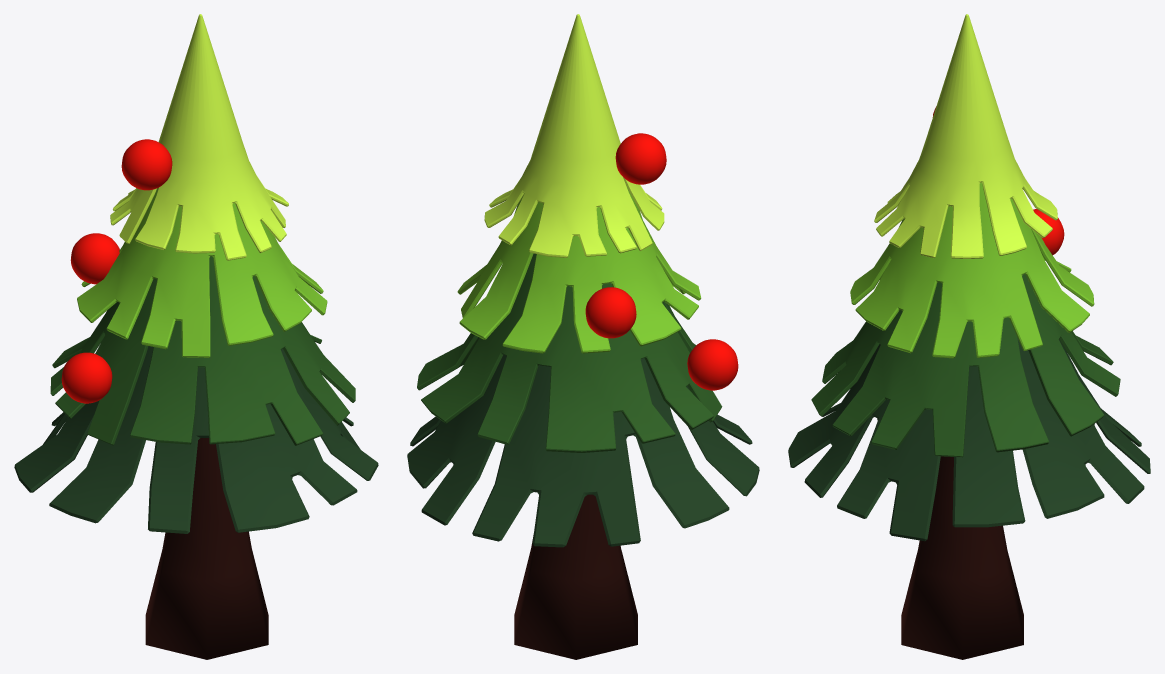
File: summer tree.fbx
3 renders of one model, left to right at view 1: azimuth 30°, elevation 25°; view 2: azimuth 150°, elevation 25°; view 3: azimuth 270°, elevation 25°, orthographic.
Visible parts, largest first — view 1: Cylinder.005, Cylinder.006, Cylinder.008, Cylinder.007, Trunk.002, Sphere.002, Sphere.008, Sphere.001; view 2: Cylinder.005, Cylinder.006, Cylinder.008, Cylinder.007, Trunk.002, Sphere.001, Sphere.008, Sphere.002; view 3: Cylinder.005, Cylinder.006, Cylinder.007, Cylinder.008, Trunk.002, Sphere.001.
Boxes of the visible parts, x1=… form: Cylinder.005: x1=14, y1=346, x2=378, y2=533; Cylinder.006: x1=50, y1=256, x2=355, y2=445; Cylinder.008: x1=110, y1=14, x2=288, y2=260; Cylinder.007: x1=77, y1=187, x2=327, y2=357; Trunk.002: x1=145, y1=438, x2=268, y2=659; Sphere.002: x1=121, y1=139, x2=172, y2=190; Sphere.008: x1=61, y1=352, x2=112, y2=403; Sphere.001: x1=70, y1=233, x2=119, y2=284; Cylinder.005: x1=407, y1=354, x2=759, y2=547; Cylinder.006: x1=417, y1=253, x2=722, y2=452; Cylinder.008: x1=484, y1=14, x2=664, y2=257; Cylinder.007: x1=457, y1=186, x2=701, y2=353; Trunk.002: x1=514, y1=494, x2=637, y2=659; Sphere.001: x1=585, y1=287, x2=636, y2=338; Sphere.008: x1=687, y1=339, x2=738, y2=390; Sphere.002: x1=615, y1=133, x2=666, y2=184; Cylinder.005: x1=788, y1=338, x2=1150, y2=541; Cylinder.006: x1=811, y1=274, x2=1120, y2=457; Cylinder.007: x1=850, y1=183, x2=1094, y2=358; Cylinder.008: x1=874, y1=14, x2=1057, y2=258; Trunk.002: x1=901, y1=456, x2=1023, y2=659; Sphere.001: x1=1033, y1=209, x2=1064, y2=255.
Bounding box in the file's own units: 378 × 387 × 723.
